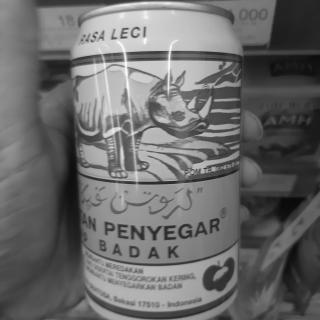alumunium_can: (63, 0, 246, 320)
